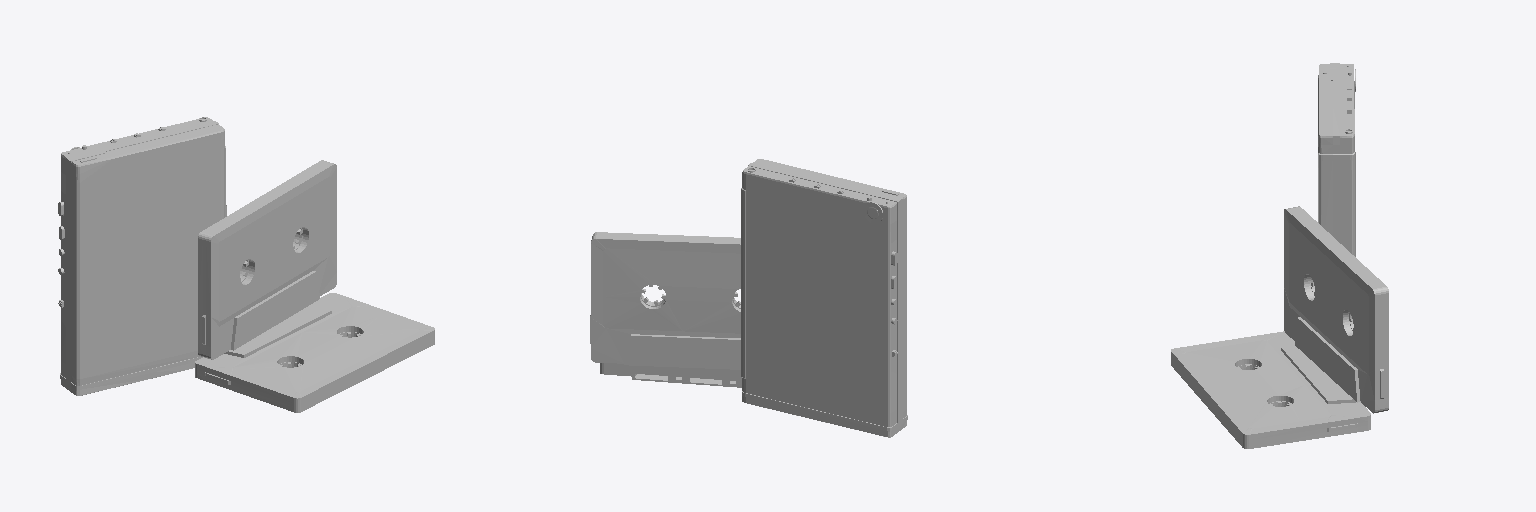
File: walkman.obj
The picture shows the model from 3 angles: view 1: azimuth 30°, elevation 25°; view 2: azimuth 150°, elevation 25°; view 3: azimuth 270°, elevation 25°; orthographic projection.
Visible parts, largest first — view 1: Cassette_low.001_Cube.003; view 2: Cassette_low.001_Cube.003; view 3: Cassette_low.001_Cube.003.
Boxes of the visible parts, <box> form: Cassette_low.001_Cube.003: <box>58,117,434,412</box>; Cassette_low.001_Cube.003: <box>590,159,907,437</box>; Cassette_low.001_Cube.003: <box>1171,63,1388,448</box>.
Bounding box in the file's own units: 12.34 × 8.52 × 7.18.